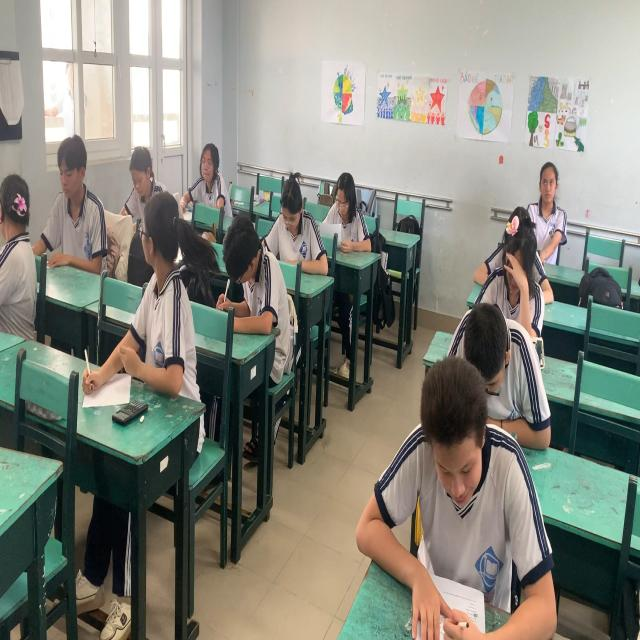cheating: (136, 199, 194, 394), (4, 165, 37, 344)
not_cheating: (394, 358, 505, 548), (455, 289, 536, 403), (225, 213, 288, 352), (52, 128, 108, 280), (488, 220, 537, 322), (272, 159, 316, 264), (532, 154, 570, 254), (120, 133, 166, 204), (328, 165, 361, 258), (195, 133, 228, 225)
